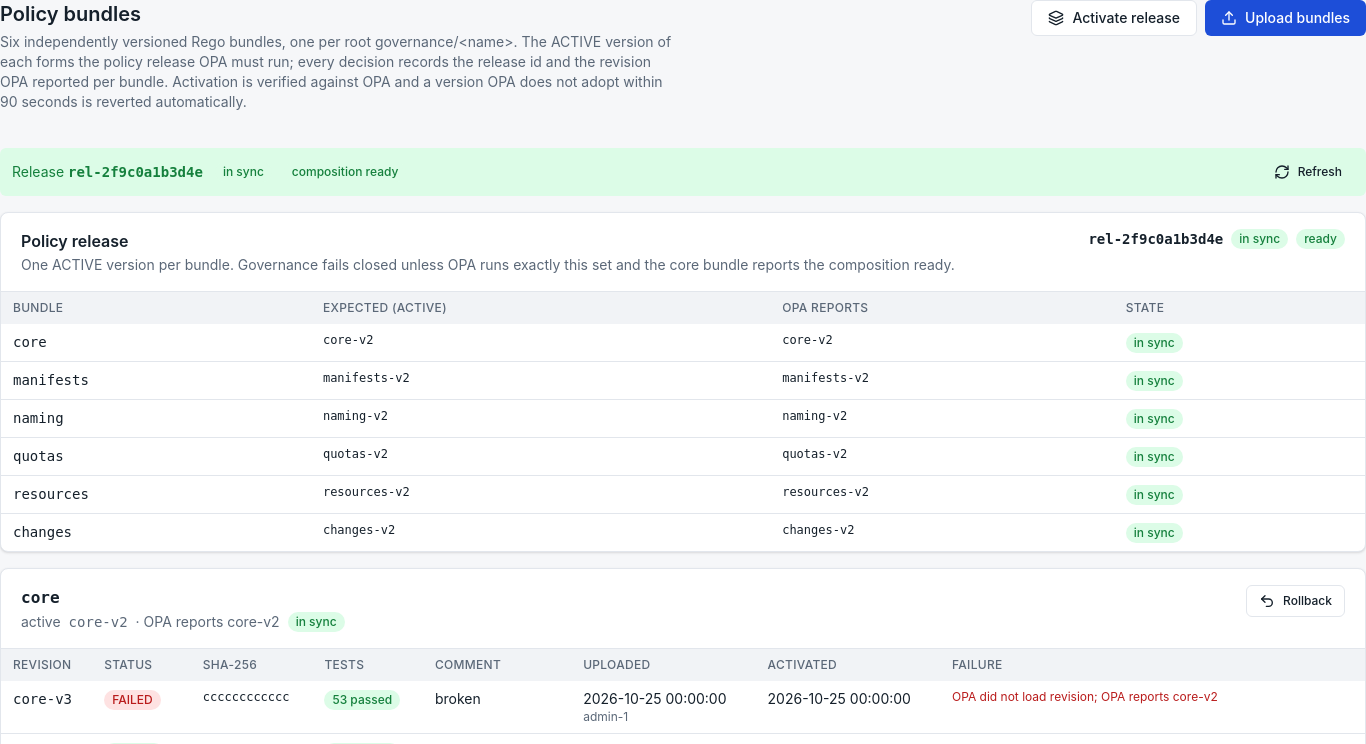
BundlesPage › activates a full release from the default selection (newest upload per bundle)
Click the button "Activate release".
click(1114, 18)  # box top-left (1031, 0), bottom-right (1197, 36)
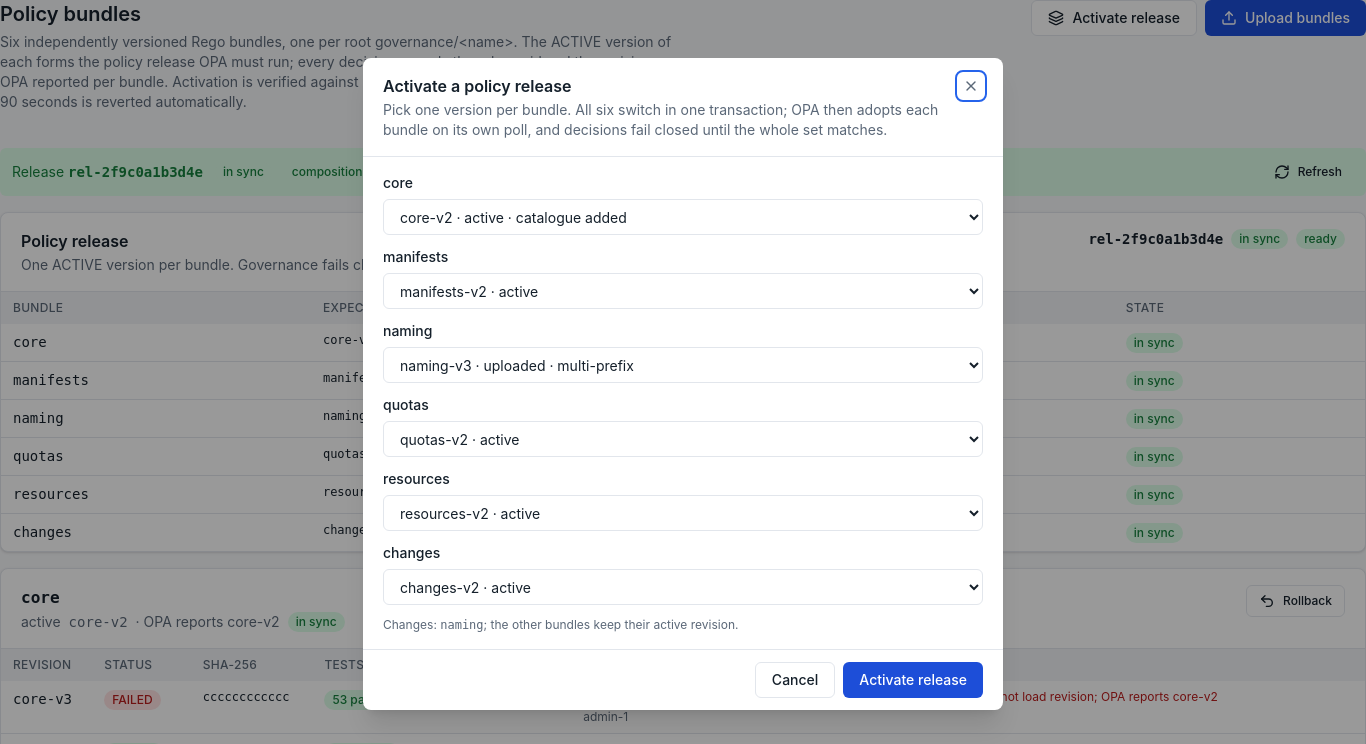
Now the dropdown labelled "naming" shows "naming-v3 · uploaded · multi-prefix", box top-left (383, 347), bottom-right (983, 383)
Now the text "Changes:" shows "naming", box top-left (440, 618), bottom-right (484, 632)
Click the button "Activate release".
click(913, 680)  # box top-left (843, 662), bottom-right (983, 698)
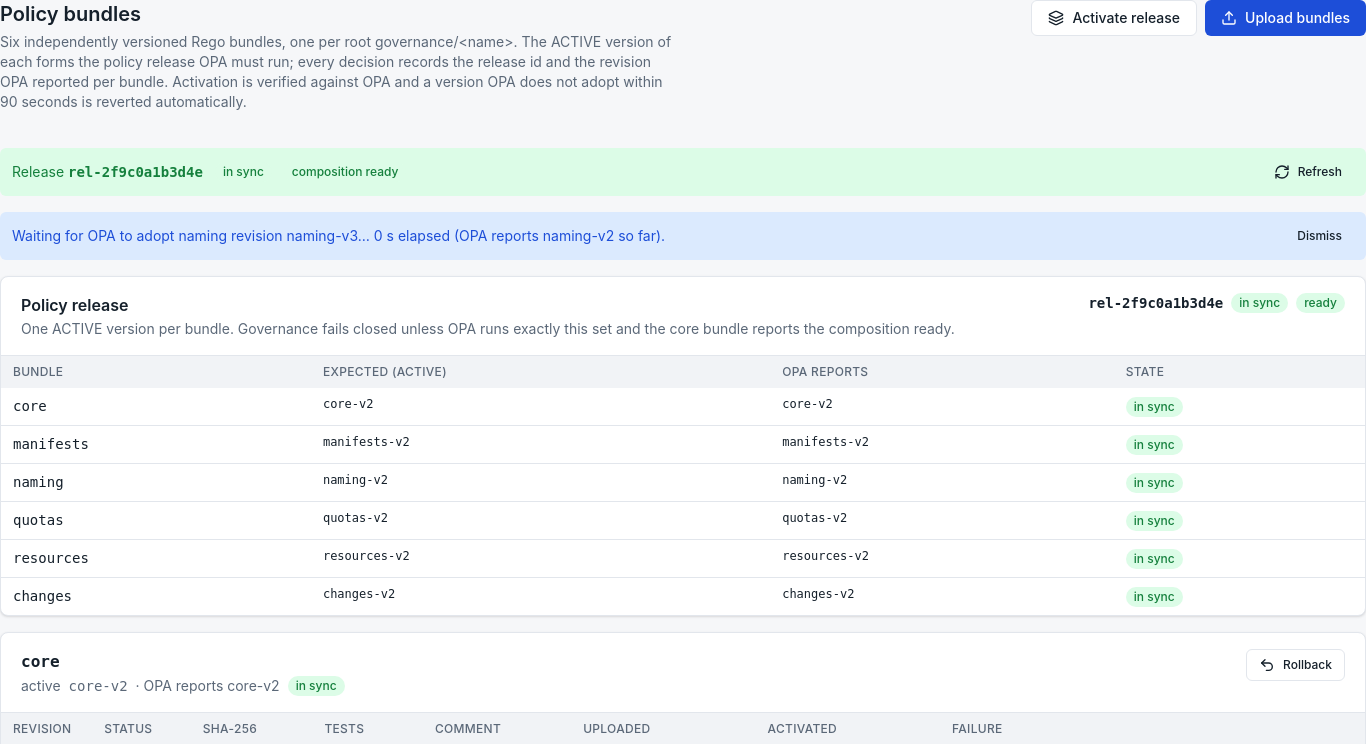
Now the element with test id "activation-watcher" shows "naming revision naming-v3", box top-left (12, 227), bottom-right (665, 244)
